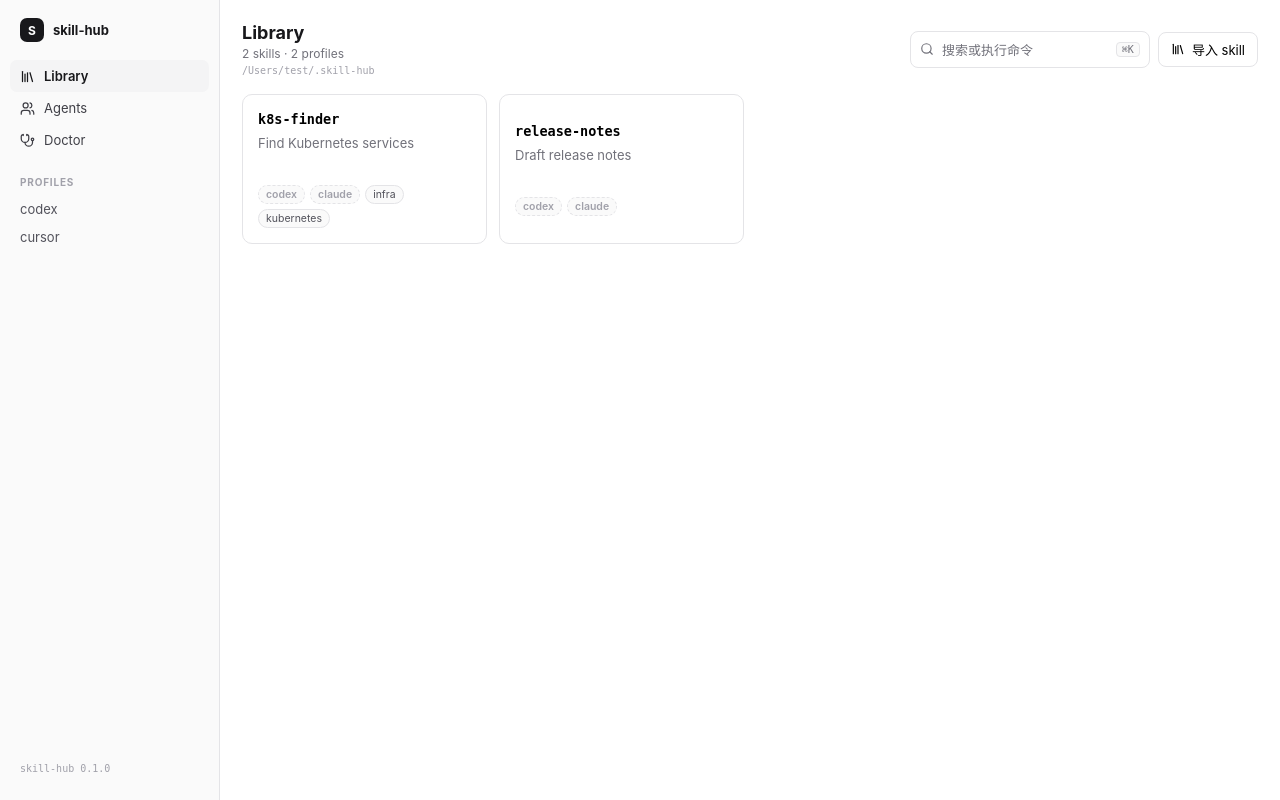
Wave 3 desktop shell › clicks a sidebar profile to show only its configured and effective skills
Expected: the text "k8s-finder" is shown, [258, 110, 339, 126]
Click the button with aria-label "打开 profile codex": click(110, 209) [10, 195, 209, 223]
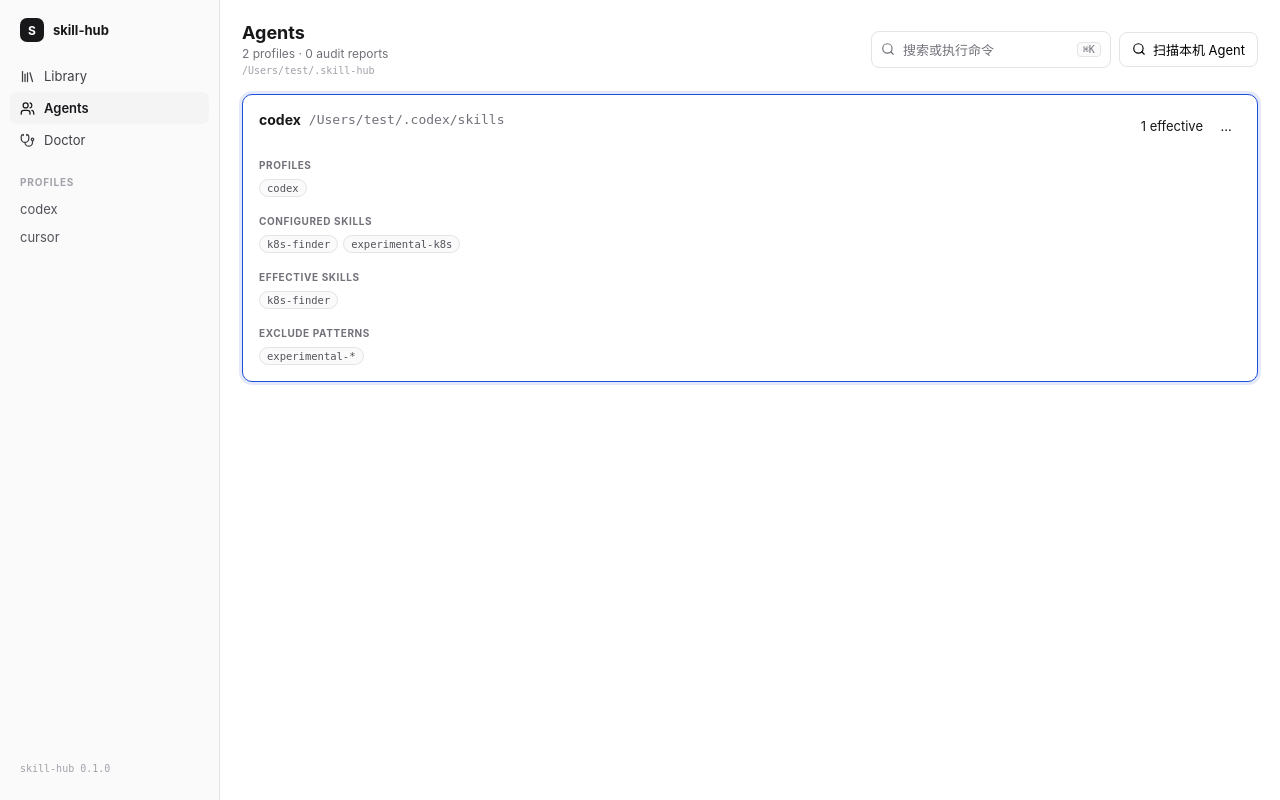
Now the element named "Agent codex" shows "Configured skills", box [259, 215, 372, 227]
Now the element named "Agent codex" shows "experimental-k8s", box [351, 238, 452, 250]
Now the element named "Agent codex" shows "Effective skills", box [259, 271, 360, 283]
Click the button "Agents": click(110, 108) [10, 92, 209, 124]
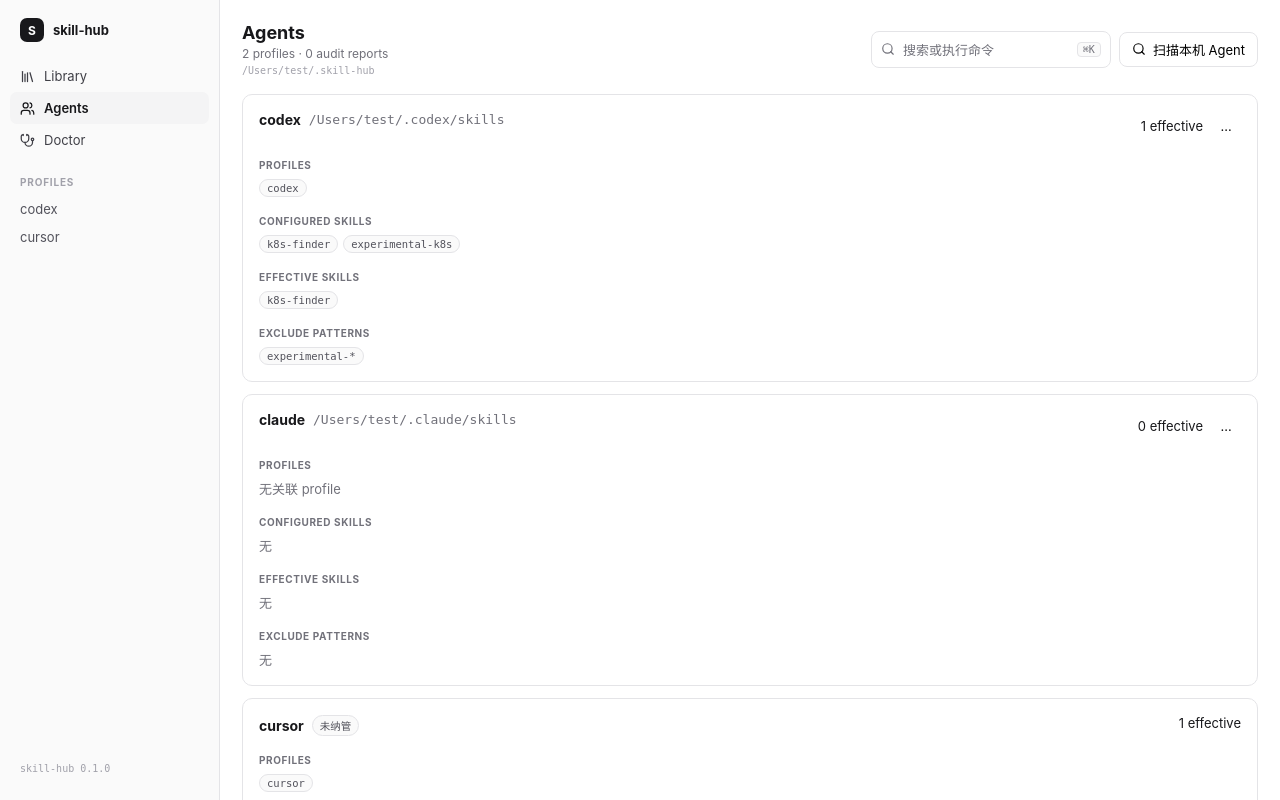
Now the heading "cursor" is shown, box [259, 717, 304, 734]
